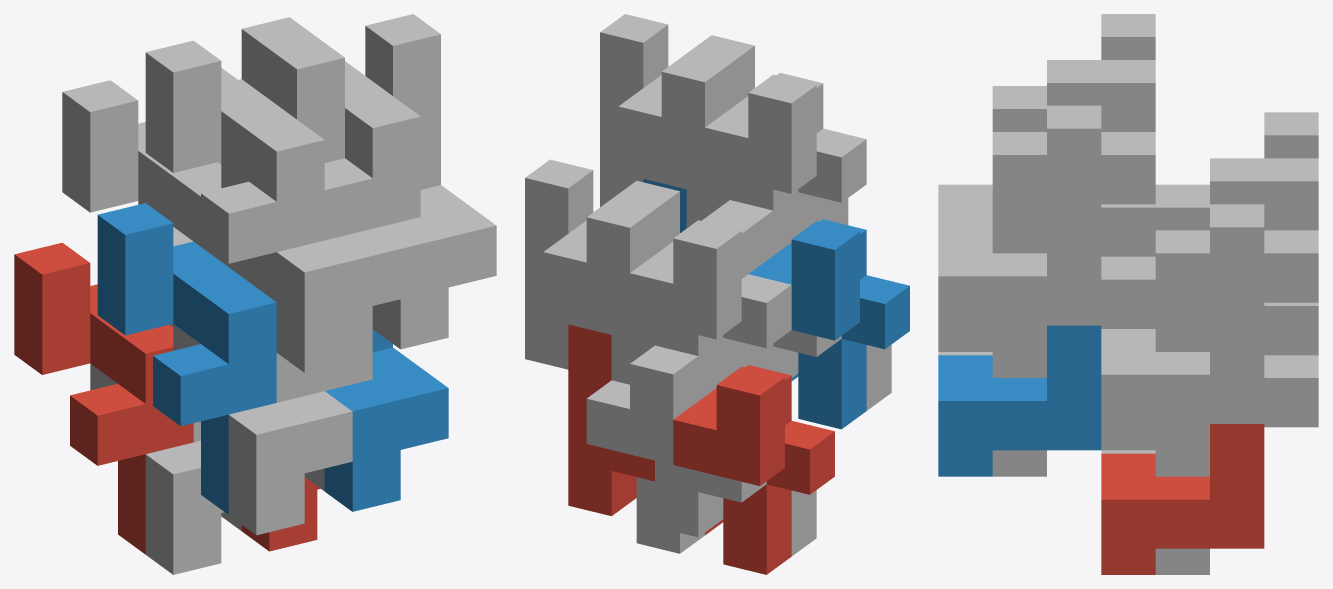
File: tiling.obj
3 views of the same model, side by side, from view 1: azimuth 30°, elevation 25°; view 2: azimuth 150°, elevation 25°; view 3: azimuth 270°, elevation 25° (orthographic). The views are drawn at different scales.
Parts seen in each view (by area): view 1: copy_1_domain_2, copy_1_domain_4, copy_1_domain_1, copy_2_domain_4, copy_2_domain_8, copy_1_domain_8, copy_2_domain_2, copy_1_domain_3, copy_2_domain_6, copy_2_domain_1, copy_1_domain_6, copy_2_domain_5; view 2: copy_1_domain_1, copy_1_domain_2, copy_1_domain_3, copy_1_domain_4, copy_1_domain_5, copy_2_domain_7, copy_1_domain_8, copy_1_domain_7, copy_2_domain_8, copy_2_domain_5, copy_2_domain_1, copy_2_domain_3 (+3 smaller); view 3: copy_2_domain_8, copy_2_domain_7, copy_2_domain_6, copy_2_domain_5, copy_1_domain_7, copy_1_domain_8, copy_1_domain_5, copy_1_domain_6, copy_1_domain_3, copy_2_domain_4, copy_1_domain_4, copy_2_domain_3.
Part boxes in pixels (box(x1,y1,x2,y2)): copy_1_domain_2: box(97, 203, 276, 514); copy_1_domain_4: box(145, 40, 324, 301); copy_1_domain_1: box(14, 242, 193, 554); copy_2_domain_4: box(221, 37, 400, 372); copy_2_domain_8: box(365, 14, 496, 349); copy_1_domain_8: box(241, 17, 420, 240); copy_2_domain_2: box(173, 258, 352, 535); copy_1_domain_3: box(62, 80, 221, 326); copy_2_domain_6: box(324, 329, 448, 511); copy_2_domain_1: box(90, 364, 224, 574); copy_1_domain_6: box(193, 184, 372, 491); copy_2_domain_5: box(241, 477, 320, 551); copy_1_domain_1: box(673, 365, 834, 574); copy_1_domain_2: box(748, 219, 909, 429); copy_1_domain_3: box(630, 218, 791, 379); copy_1_domain_4: box(705, 73, 866, 233); copy_1_domain_5: box(586, 345, 704, 553); copy_2_domain_7: box(525, 159, 611, 369); copy_1_domain_8: box(618, 53, 729, 172); copy_1_domain_7: box(543, 199, 654, 318); copy_2_domain_8: box(600, 14, 686, 207); copy_2_domain_5: box(568, 324, 723, 535); copy_2_domain_1: box(655, 338, 816, 556); copy_2_domain_3: box(611, 180, 773, 384); copy_2_domain_8: box(938, 105, 1101, 351); copy_2_domain_7: box(1101, 204, 1264, 450); copy_2_domain_6: box(938, 325, 1101, 476); copy_2_domain_5: box(1101, 424, 1264, 574); copy_1_domain_7: box(1155, 158, 1318, 450); copy_1_domain_8: box(992, 60, 1155, 351); copy_1_domain_5: box(1155, 302, 1318, 574); copy_1_domain_6: box(992, 204, 1155, 476); copy_1_domain_3: box(1155, 112, 1318, 230); copy_2_domain_4: box(938, 60, 1101, 230); copy_1_domain_4: box(992, 14, 1155, 131); copy_2_domain_3: box(1210, 158, 1264, 204).
Size of the model in its own units: 6 by 10 by 7.
